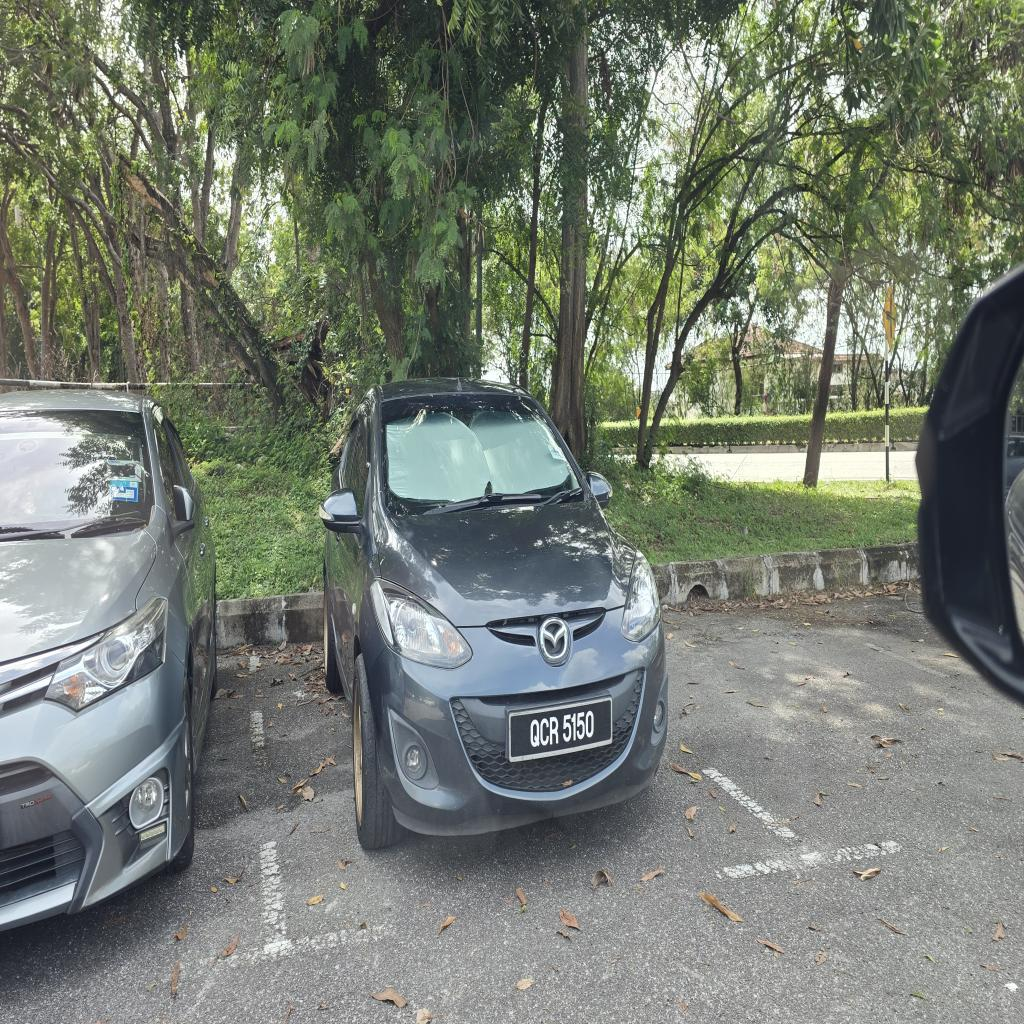car: (321, 379, 667, 848)
car plate: (508, 696, 612, 761)
